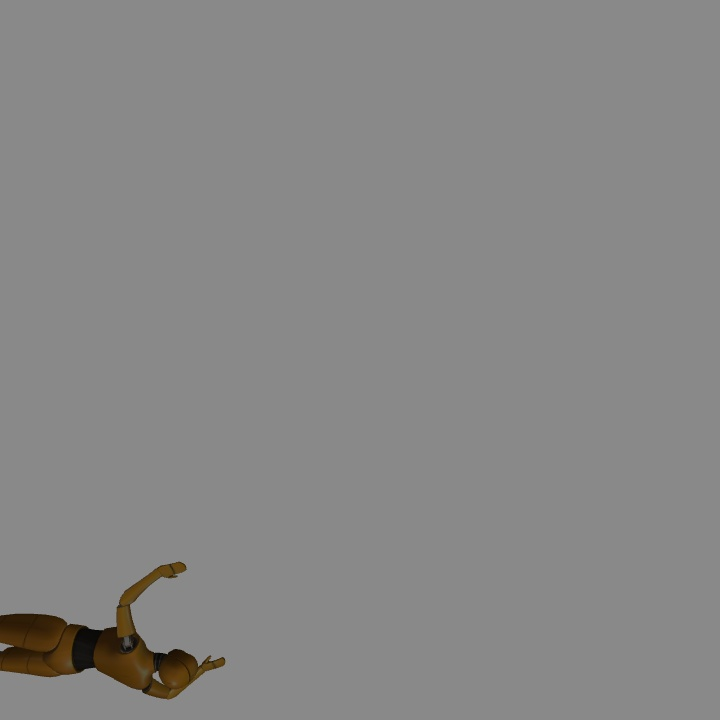victim: (1, 612, 226, 694)
